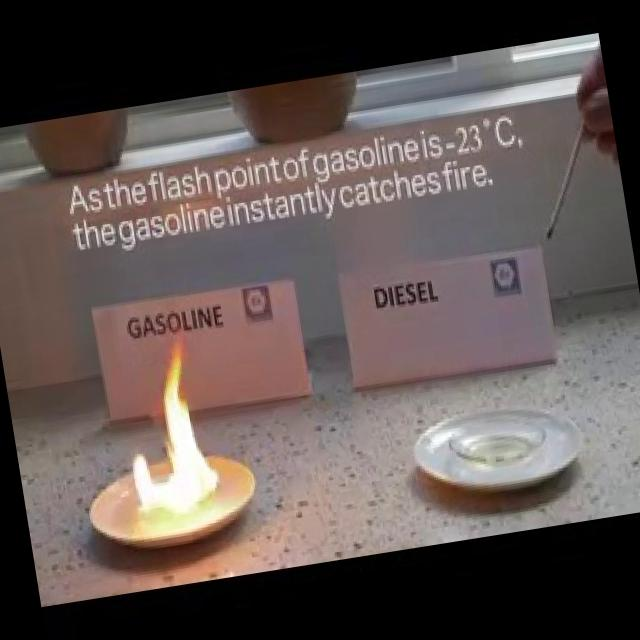Fire: (107, 328, 230, 528)
